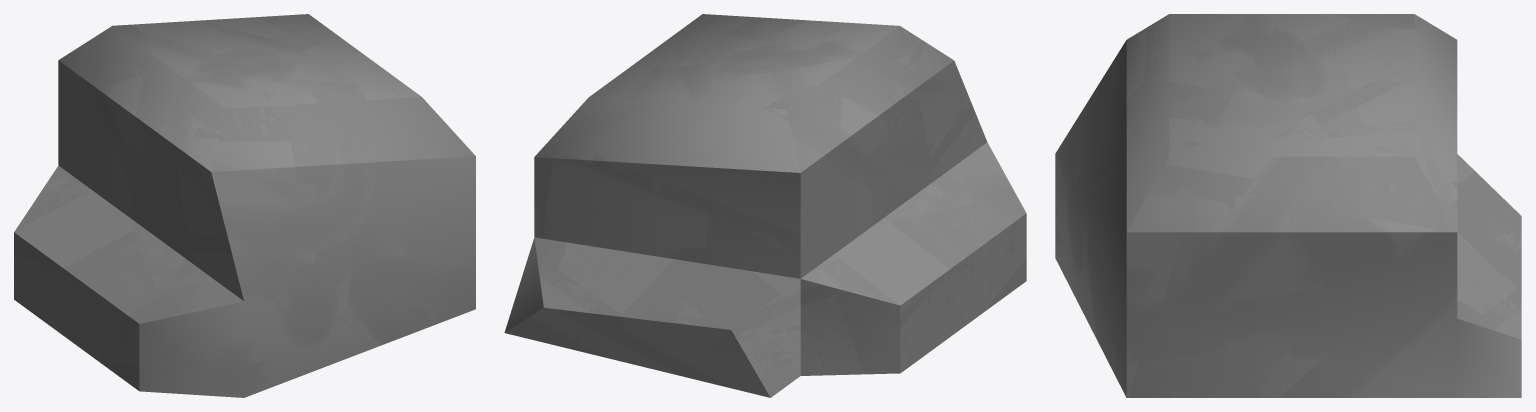
Rendered from baby rock.fbx.
3 views of the same model, side by side, from view 1: azimuth 30°, elevation 25°; view 2: azimuth 150°, elevation 25°; view 3: azimuth 270°, elevation 25° (orthographic). The views are drawn at different scales.
Visible parts, largest first — view 1: Box009; view 2: Box009; view 3: Box009.
Boxes of the visible parts, x1,y1,x2,y2 form: Box009: [14, 14, 475, 397]; Box009: [504, 14, 1026, 397]; Box009: [1055, 14, 1521, 397].
Bounding box in the file's own units: 49.05 × 33.76 × 54.4.
